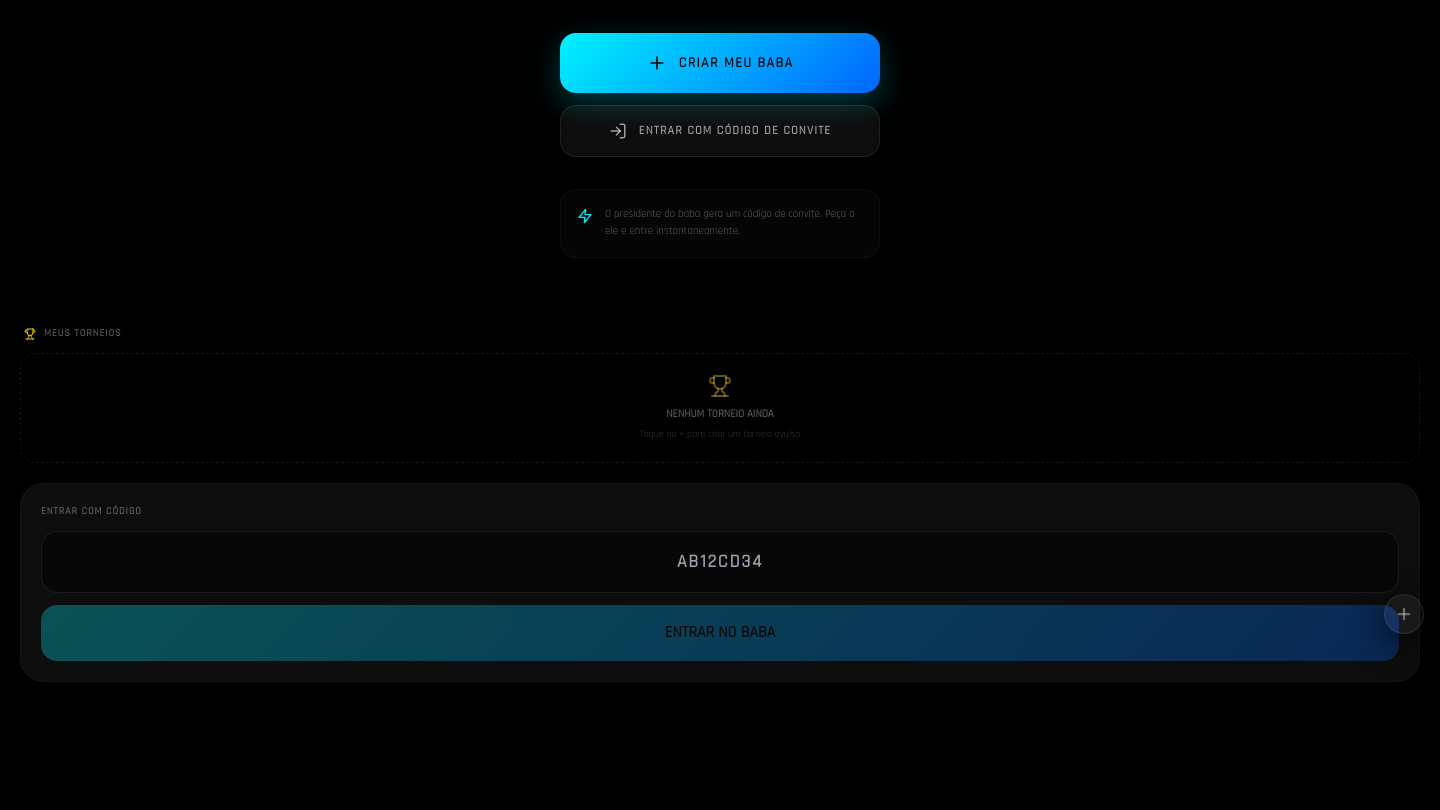
Test: HomePage - join por código › habilita botão com 6 caracteres
(page scrolled)
In the field with placeholder "AB12CD34": (720, 562) x1=41 y1=531 x2=1399 y2=593, type "ABC123"
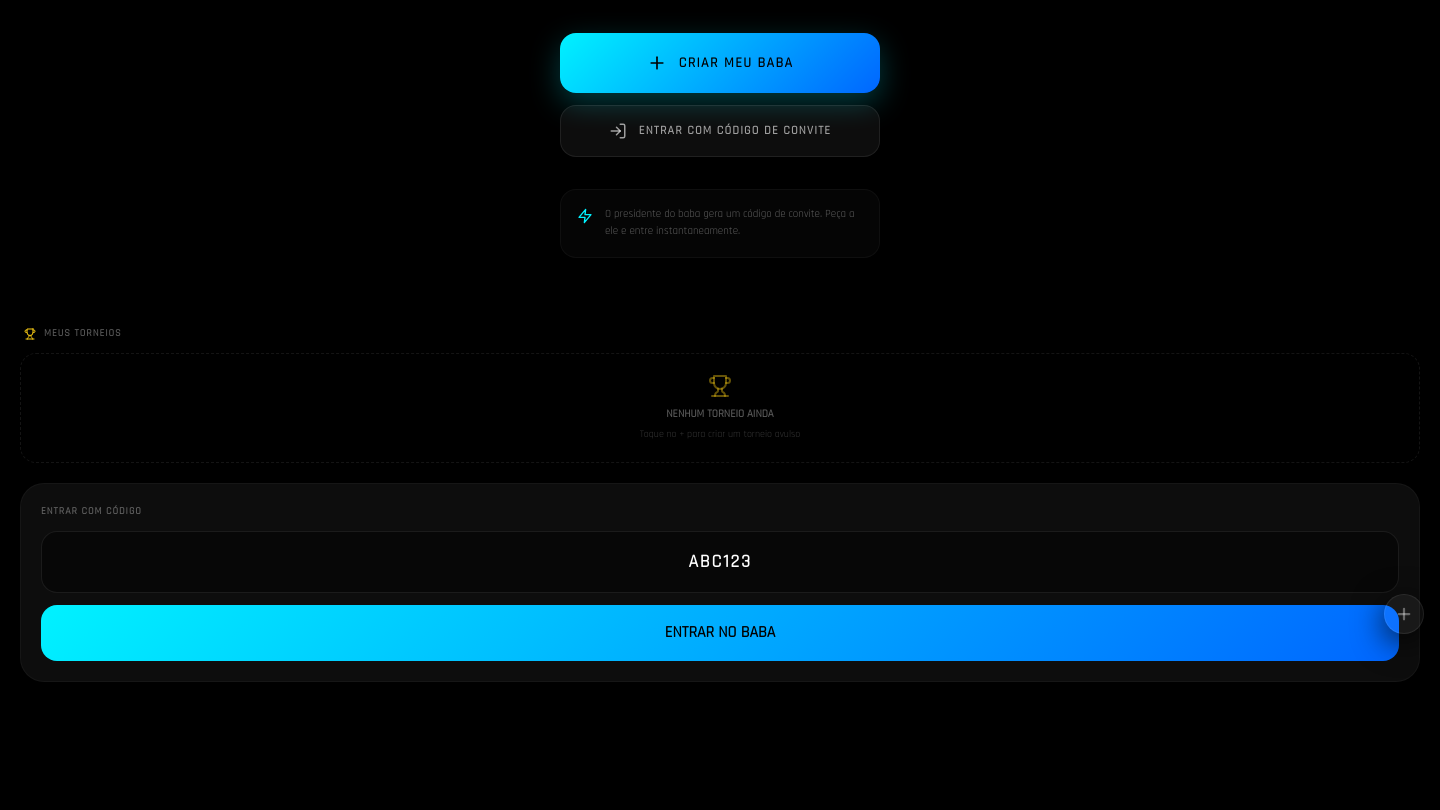
Expected: the button "Entrar no Baba" is enabled, x1=41 y1=605 x2=1399 y2=661
